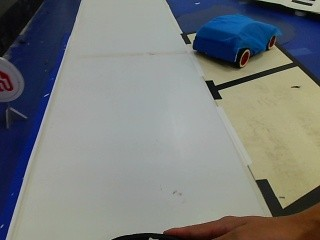car: (194, 15, 280, 71)
